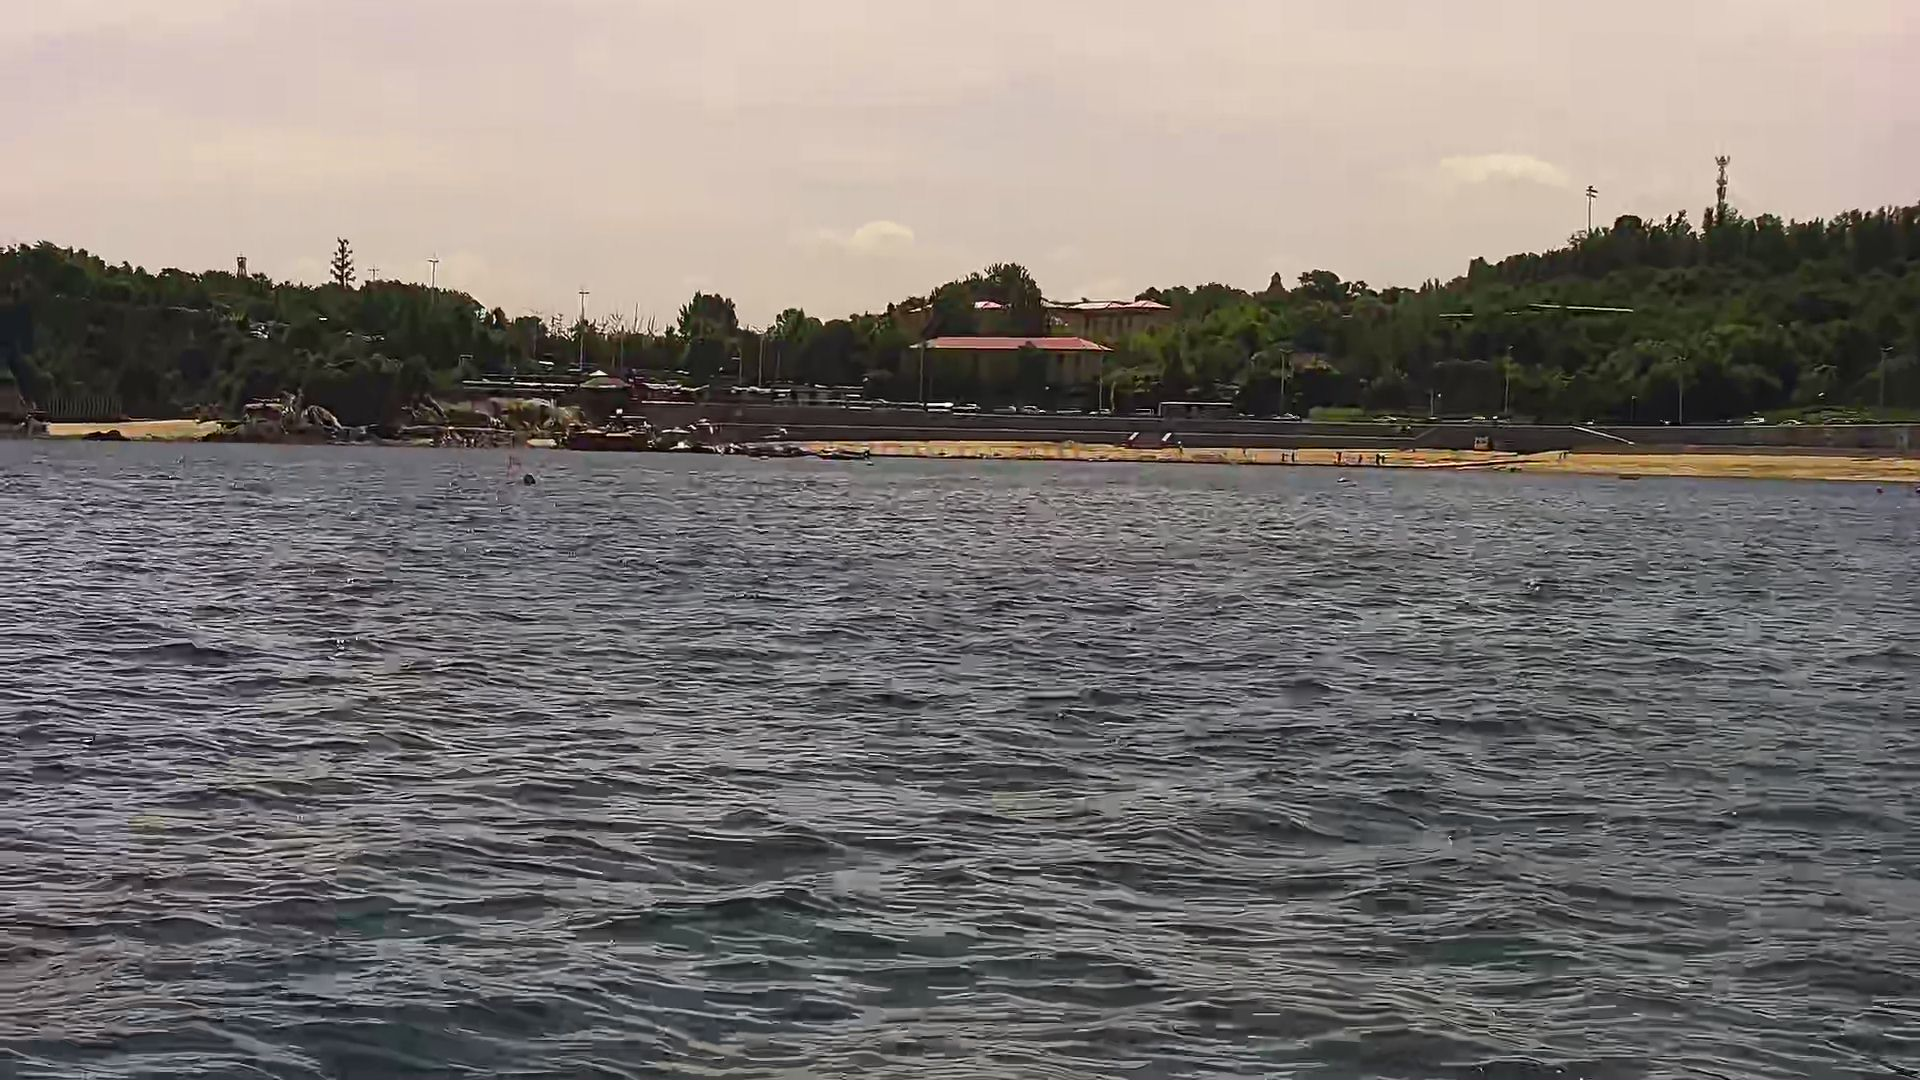boat: (549, 415, 676, 450), (814, 440, 873, 463)
rubbish: (516, 468, 539, 485)
